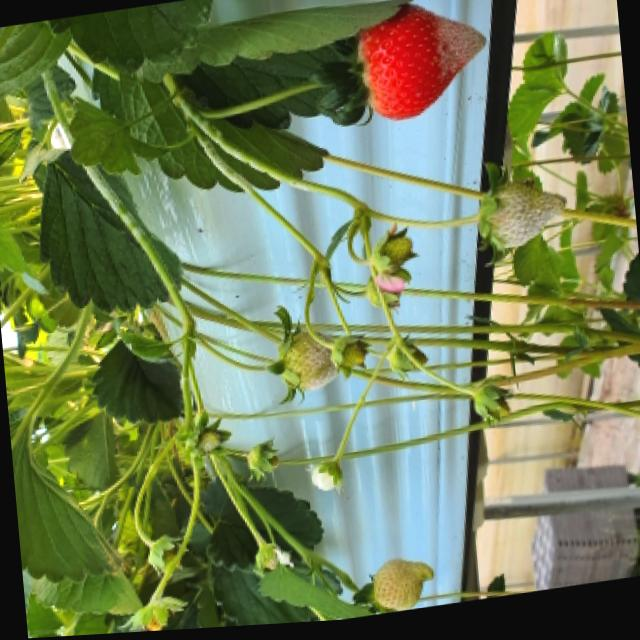Powdery Mildew Fruit: (357, 6, 488, 127), (476, 187, 567, 254), (279, 333, 344, 401)
